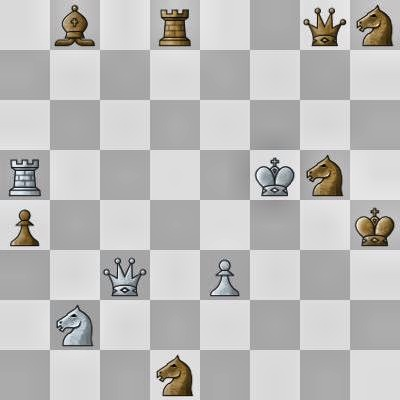black-bishop: (50, 0, 100, 50)
black-king: (350, 200, 400, 250)
black-knight: (350, 0, 400, 50), (300, 150, 350, 200), (150, 350, 200, 400)
black-pawn: (0, 200, 50, 250)
black-queen: (300, 0, 350, 50)
black-rook: (150, 0, 200, 50)
white-king: (250, 150, 300, 200)
white-knight: (50, 300, 100, 350)
white-pawn: (200, 250, 250, 300)
white-queen: (100, 250, 150, 300)
white-rook: (0, 150, 50, 200)
